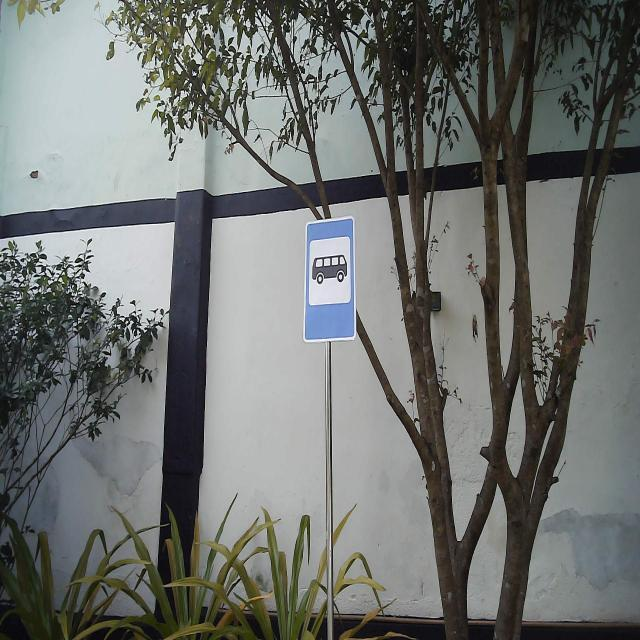bus_stop: (302, 216, 358, 344)
